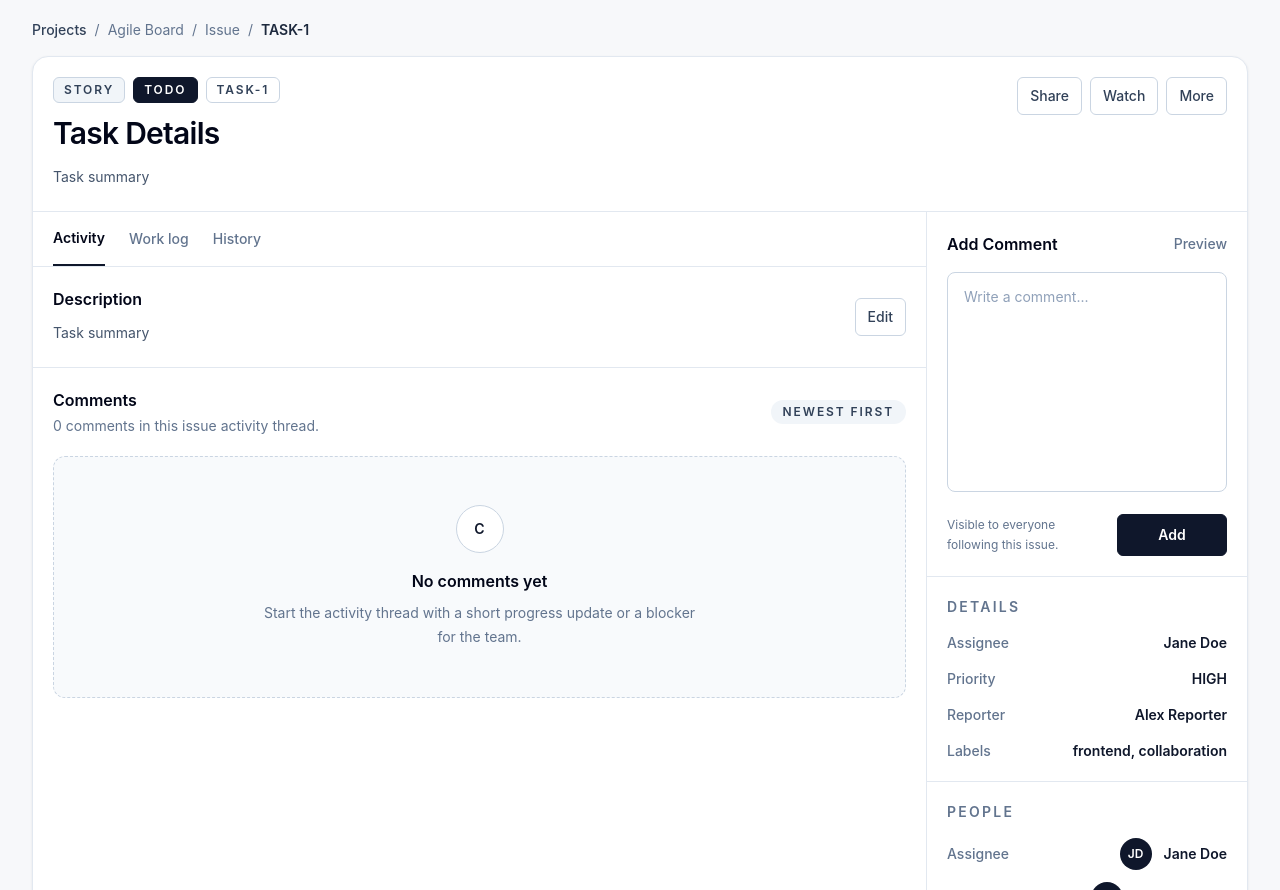
Test case: TaskDetails states › shows a fallback error when the mutation rejects without a message
Type "Please update the copy" into the text box with placeholder "Write a comment...".
click(1087, 382); type("Please update the copy")  # box [947, 272, 1227, 492]
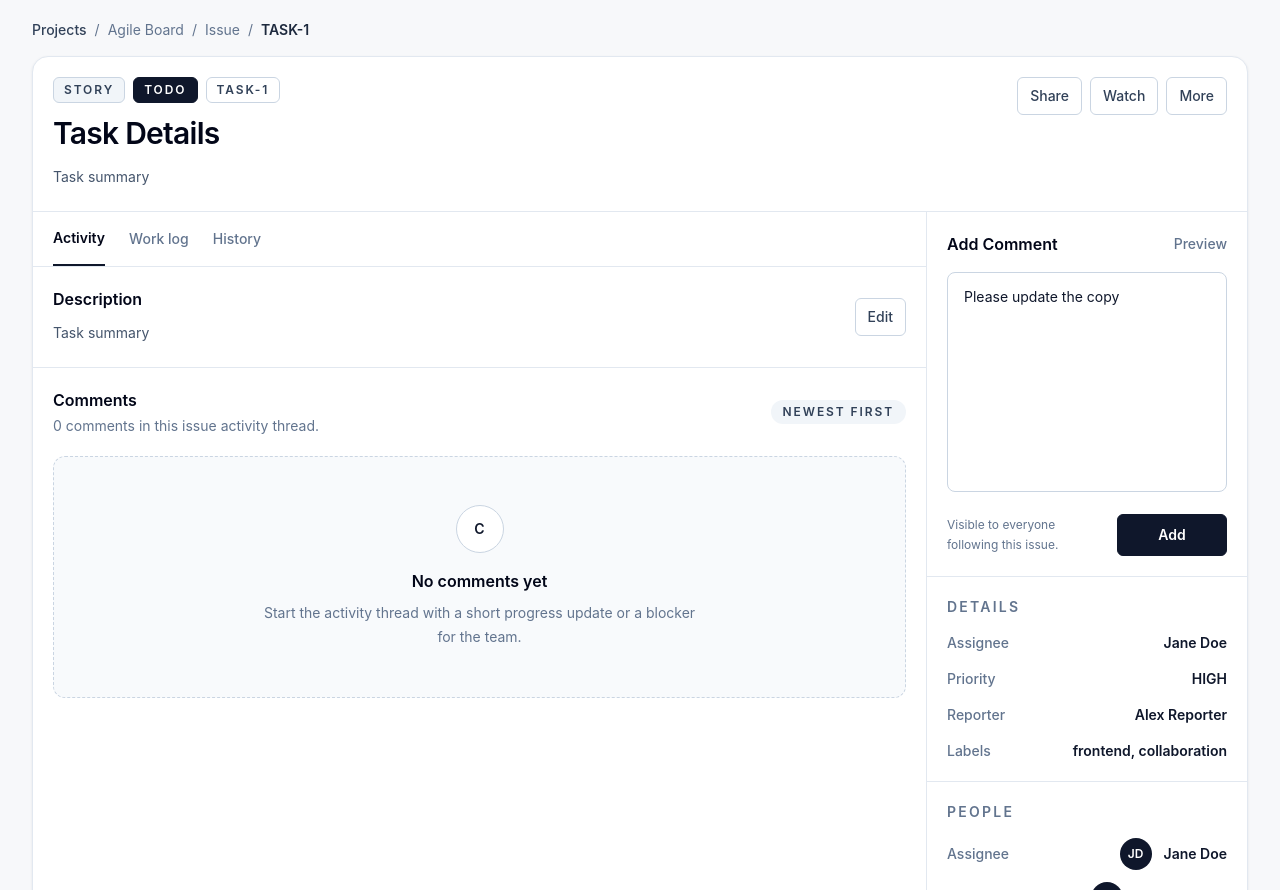
Click the button "Add".
click(1172, 535)  # box [1117, 514, 1227, 556]
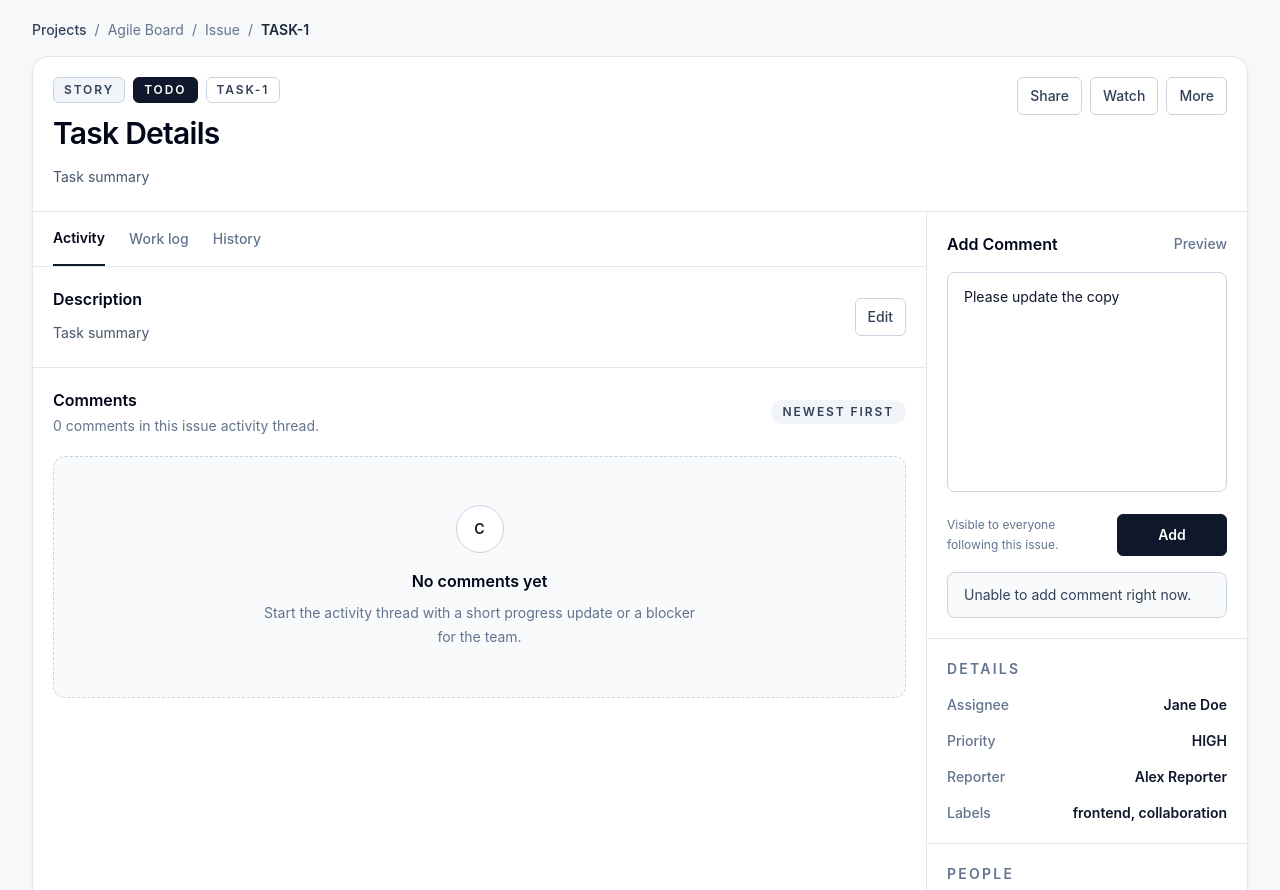
Expected: the text "Unable to add comment right now." is shown, [947, 572, 1227, 618]
